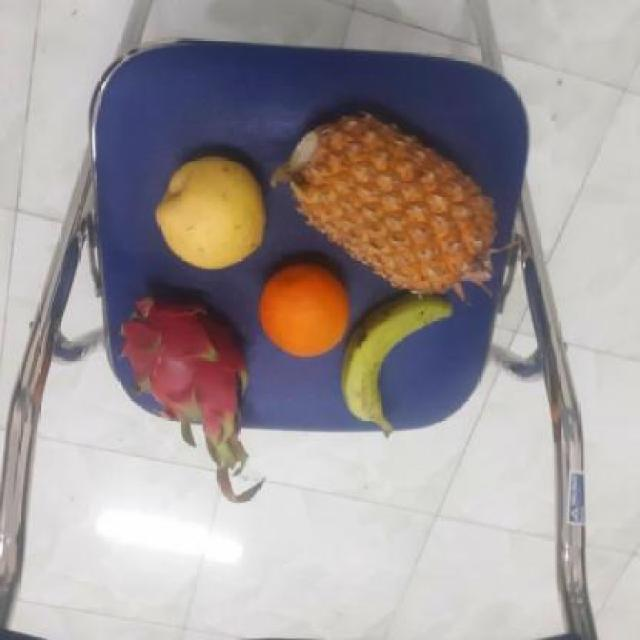banana: (341, 292, 464, 428)
dragon fruit: (117, 285, 258, 433)
oren: (256, 264, 355, 362)
pear: (151, 160, 271, 271)
pineapple: (289, 111, 500, 295)
